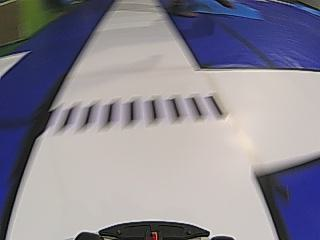CrossWalk: (42, 88, 231, 134)
